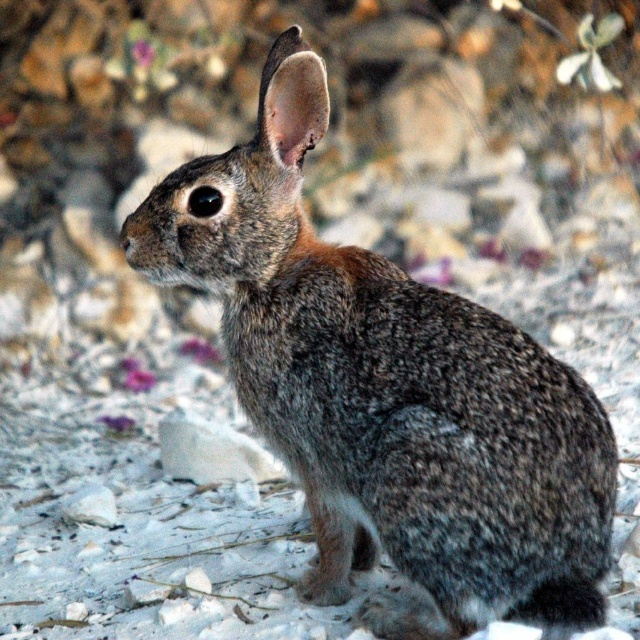Rabbit: (116, 23, 625, 640)
